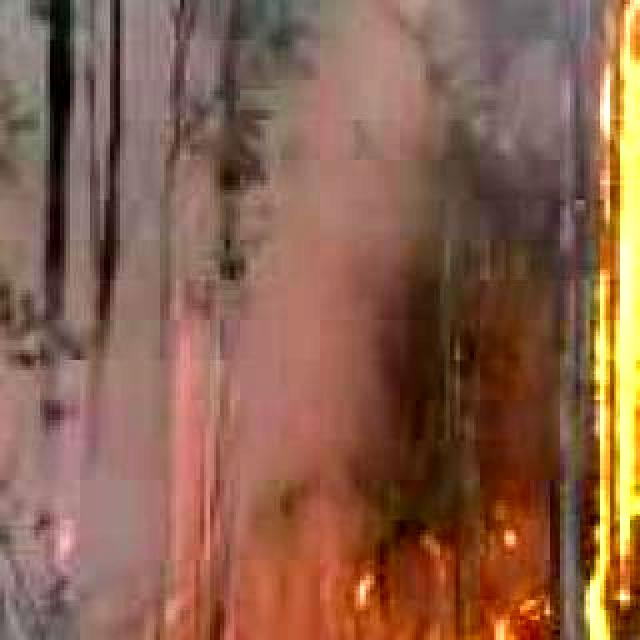fire: (592, 0, 640, 640), (266, 560, 556, 640)
